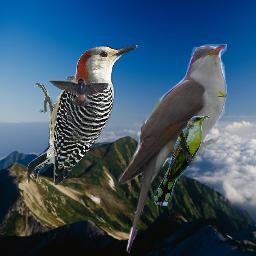Cuckoo: (117, 44, 227, 256), (154, 116, 209, 206)
Swallow: (47, 77, 109, 107)
Woodpecker: (27, 44, 139, 185)
